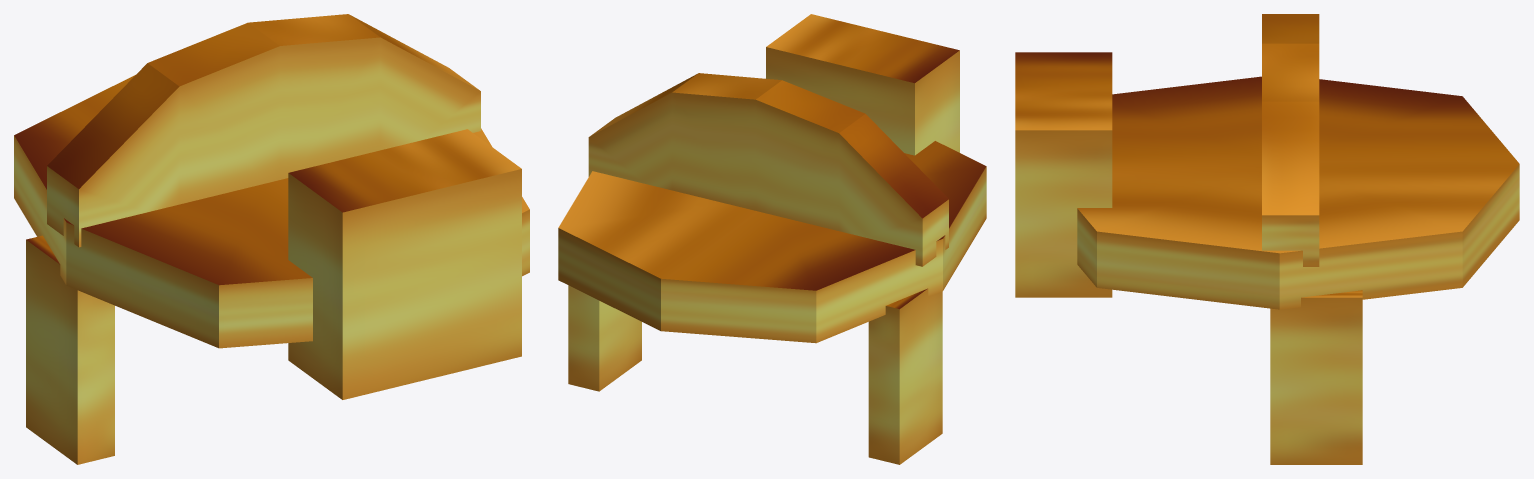
The model's file is helmet_olmec_2.dae.
3 views of the same model, side by side, from view 1: azimuth 30°, elevation 25°; view 2: azimuth 150°, elevation 25°; view 3: azimuth 270°, elevation 25° (orthographic). The views are drawn at different scales.
Parts seen in each view (by area): view 1: olmec_2; view 2: olmec_2; view 3: olmec_2.
Boxes of the visible parts, bbox=[...] form: olmec_2: bbox=[14, 14, 529, 464]; olmec_2: bbox=[558, 14, 986, 464]; olmec_2: bbox=[1015, 14, 1519, 464].
Size of the model in its own units: 0.4756 by 0.5666 by 0.4136.
